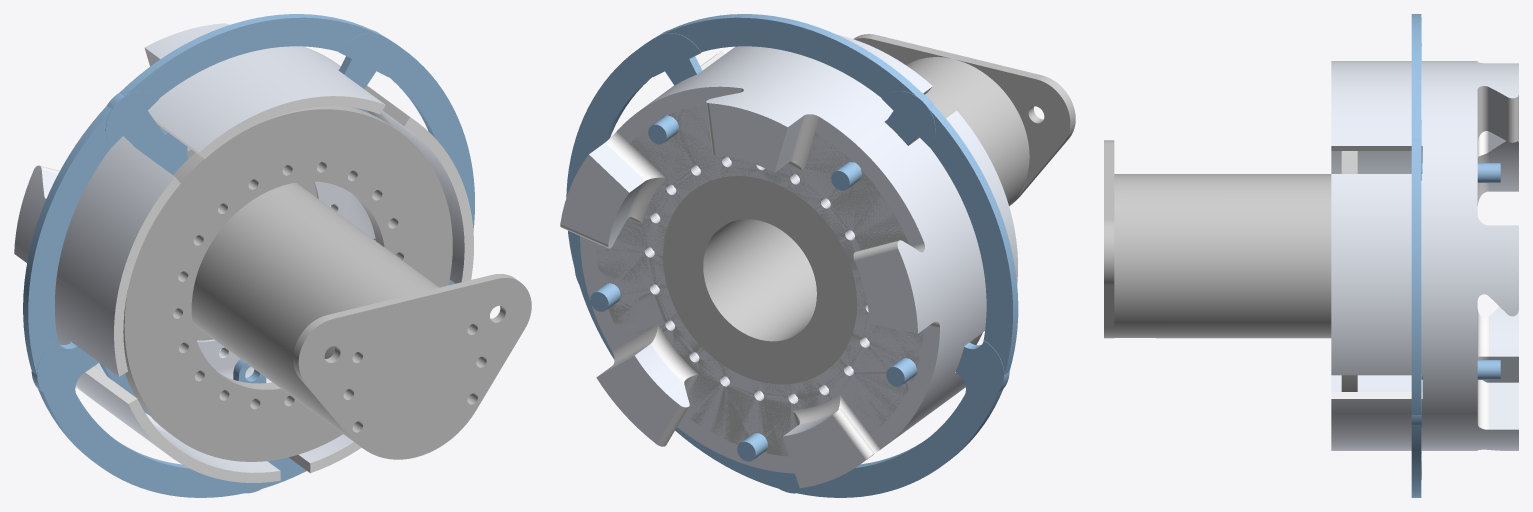
File: bucket.gltf
3 renders of one model, left to right at view 1: azimuth 30°, elevation 25°; view 2: azimuth 150°, elevation 25°; view 3: azimuth 270°, elevation 25°, orthographic. The views are drawn at different scales.
Visible parts, largest first — view 1: Body1:2, Body1:1, Body1, Body4, Body2; view 2: Body1:1, Body1:3, Body1, Body2, Body4; view 3: Body1:1, Body2, Body1, Body4, Body1:2.
Boxes of the visible parts, x1,y1,x2,y2 form: Body1:2: (123,106,452,461); Body1:1: (14,23,473,482); Body1: (23,14,474,497); Body4: (293,274,531,459); Body2: (191,182,481,442); Body1:1: (560,34,1017,488); Body1:3: (596,107,923,456); Body1: (566,14,1018,497); Body2: (708,57,1029,337); Body4: (853,34,1075,206); Body1:1: (1331,61,1518,450); Body2: (1114,174,1331,338); Body1: (1411,14,1500,497); Body4: (1104,140,1114,338); Body1:2: (1341,151,1357,391).
Size of the model in its own units: 0.1497 by 0.1501 by 0.1283.
